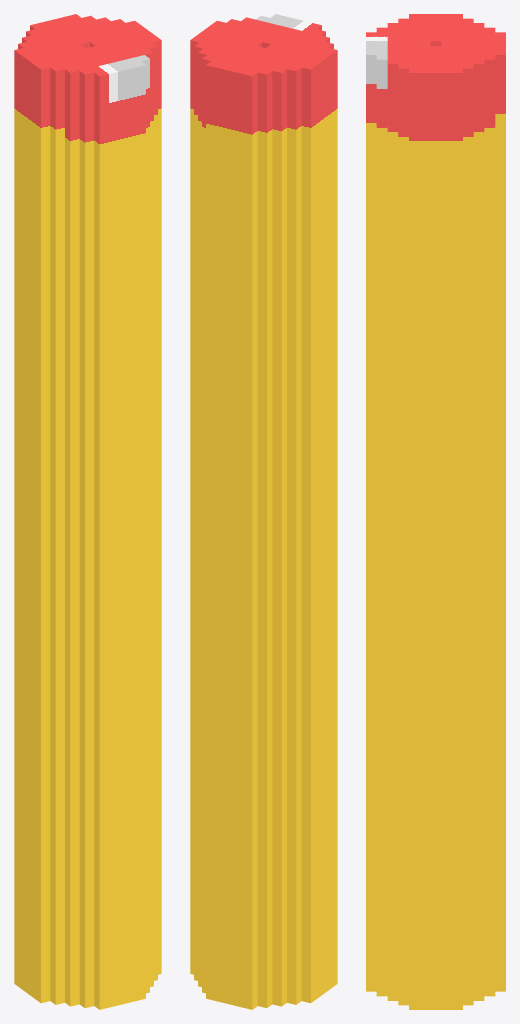
File: 一根香.gltf
3 renders of one model, left to right at view 1: azimuth 30°, elevation 25°; view 2: azimuth 150°, elevation 25°; view 3: azimuth 270°, elevation 25°, orthographic.
Visible parts, largest first — view 1: Object; view 2: Object; view 3: Object.
Part boxes in pixels (x1,y1,x2,y2): Object: (14,14,161,1009); Object: (190,14,337,1009); Object: (366,14,505,1009).
Size of the model in its own units: 13 by 96 by 13.
1 material, 1 textured.
